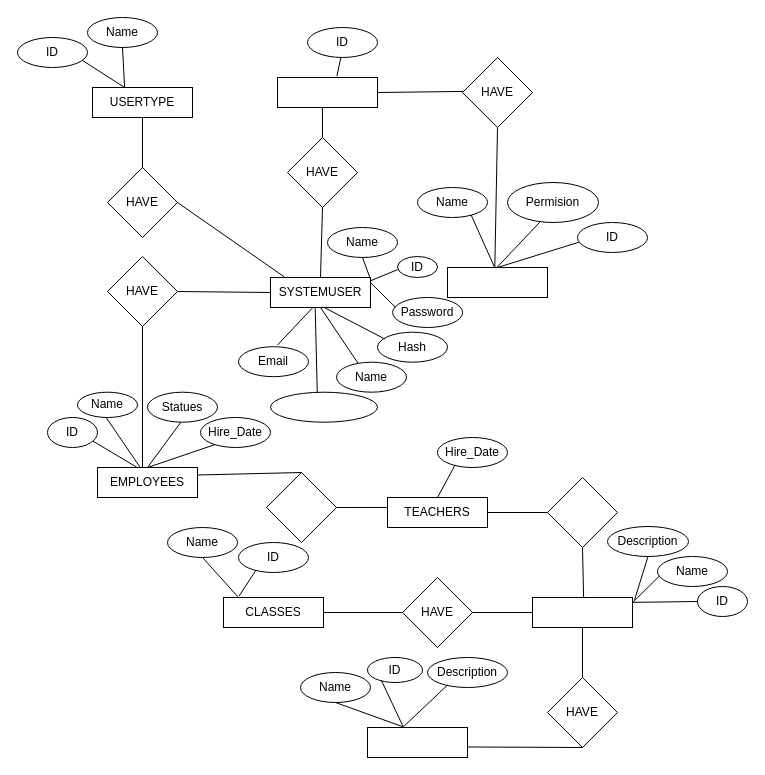
Some shapes in this 765 by 775 pixel diagram are drawn without their labels. Each missing label, with the centre of its shape:
"Bookes" goes at (417,742).
"COURESES" goes at (582,612).
"IS" goes at (301,507).
"ROLE" goes at (497,282).
"TEACHES" goes at (582,512).
"User_Crea_Date" goes at (324,406).
"USERROLE" goes at (327,92).
